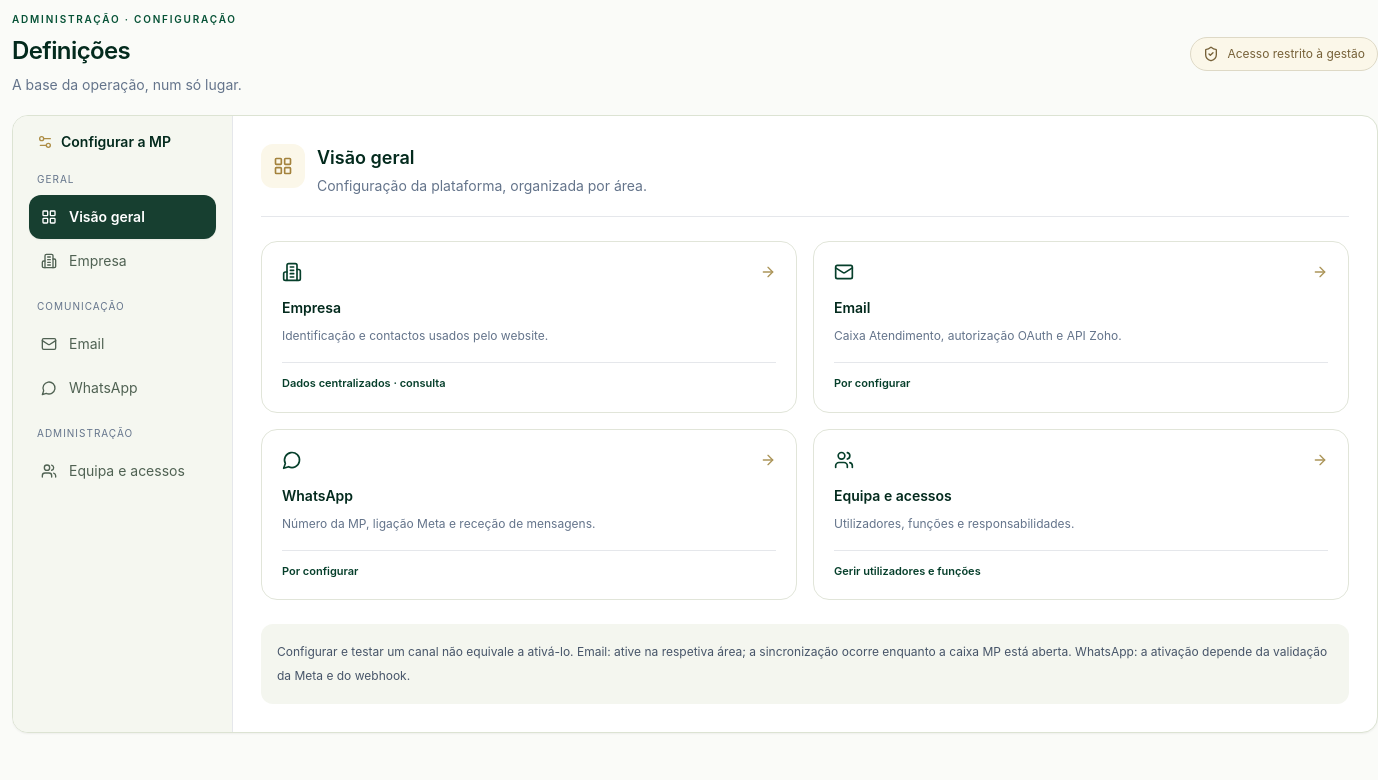
it: Settings workspace › starts with an overview and separate functional areas
This screenshot has width=1378, height=780.
Check: the heading "Definições" is shown, box [12, 36, 130, 65]
Check: the navigation bar named "Áreas de Definições" is shown, box [13, 116, 233, 732]
What coordinates should you click on to do the following:
click the button "Empresa"
I would click on:
 (122, 261)
Its box is [29, 239, 216, 283].
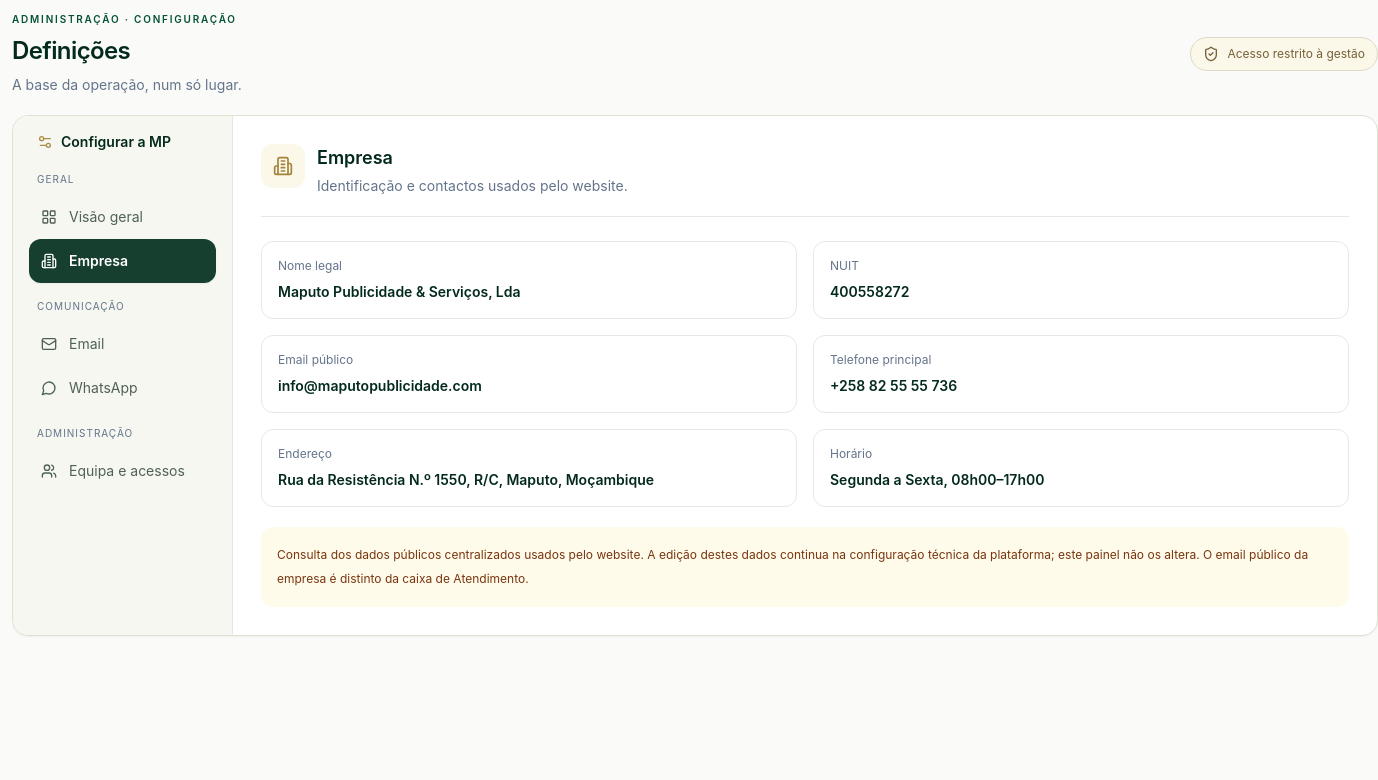
Check: the element named "Dados da empresa" is shown, box [261, 241, 1349, 607]
Check: the text "A edição destes dados continua na configuração técnica" is shown, box [277, 547, 1308, 586]
